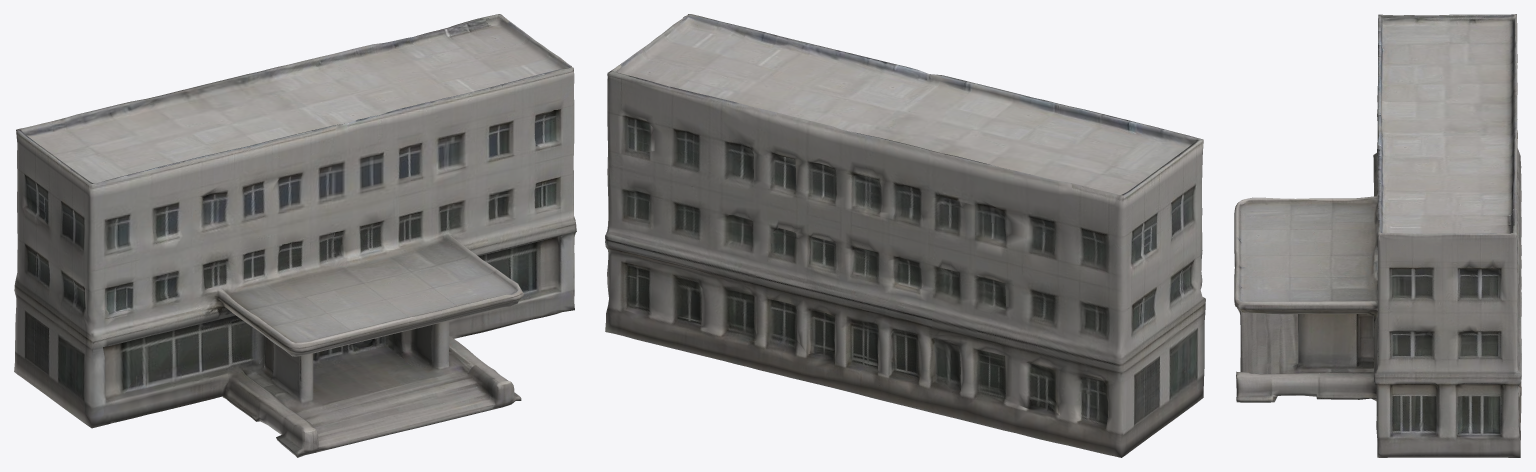
File: school.glb
The picture shows the model from 3 angles, left to right: view 1: azimuth 30°, elevation 25°; view 2: azimuth 150°, elevation 25°; view 3: azimuth 270°, elevation 25°; orthographic projection. The views are drawn at different scales.
Parts seen in each view (by area): view 1: school; view 2: school; view 3: school.
Part boxes in pixels (x1,y1,x2,y2): school: [14, 14, 576, 457]; school: [605, 14, 1205, 457]; school: [1234, 14, 1521, 457].
Size of the model in its own units: 27.92 by 13.83 by 15.48.
1 material, 1 textured.
